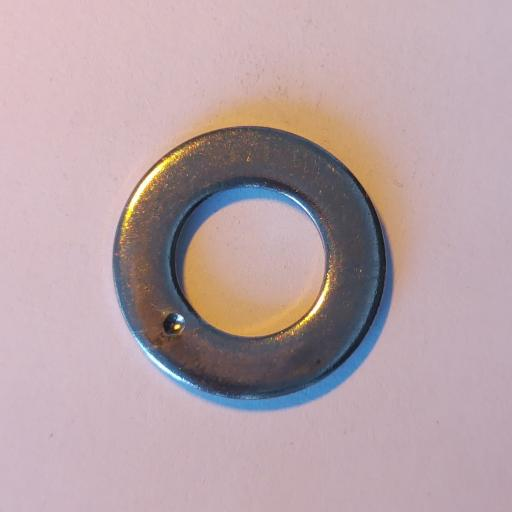circular_cavity: (162, 310, 185, 336)
